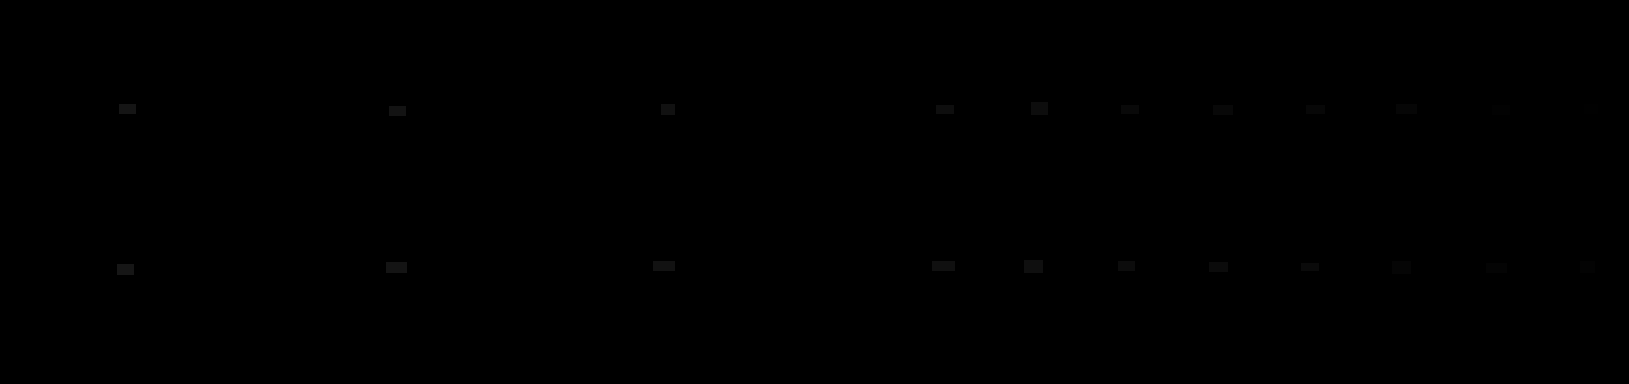light: (1392, 260, 1411, 274), (1031, 102, 1048, 115), (932, 260, 955, 271), (386, 262, 407, 273), (1024, 260, 1043, 273), (1486, 263, 1507, 273), (653, 260, 675, 271), (1396, 104, 1417, 114), (1213, 105, 1233, 115), (1209, 262, 1228, 272), (117, 264, 134, 275), (1492, 105, 1510, 115), (389, 106, 406, 116), (1580, 260, 1595, 273), (1306, 105, 1325, 114), (1118, 260, 1134, 271), (119, 104, 136, 114), (661, 104, 675, 115), (1121, 105, 1139, 114), (936, 105, 954, 114), (1301, 263, 1319, 271), (1584, 104, 1598, 114)
